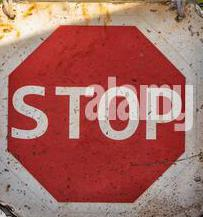Stop sign: (0, 0, 202, 216)
